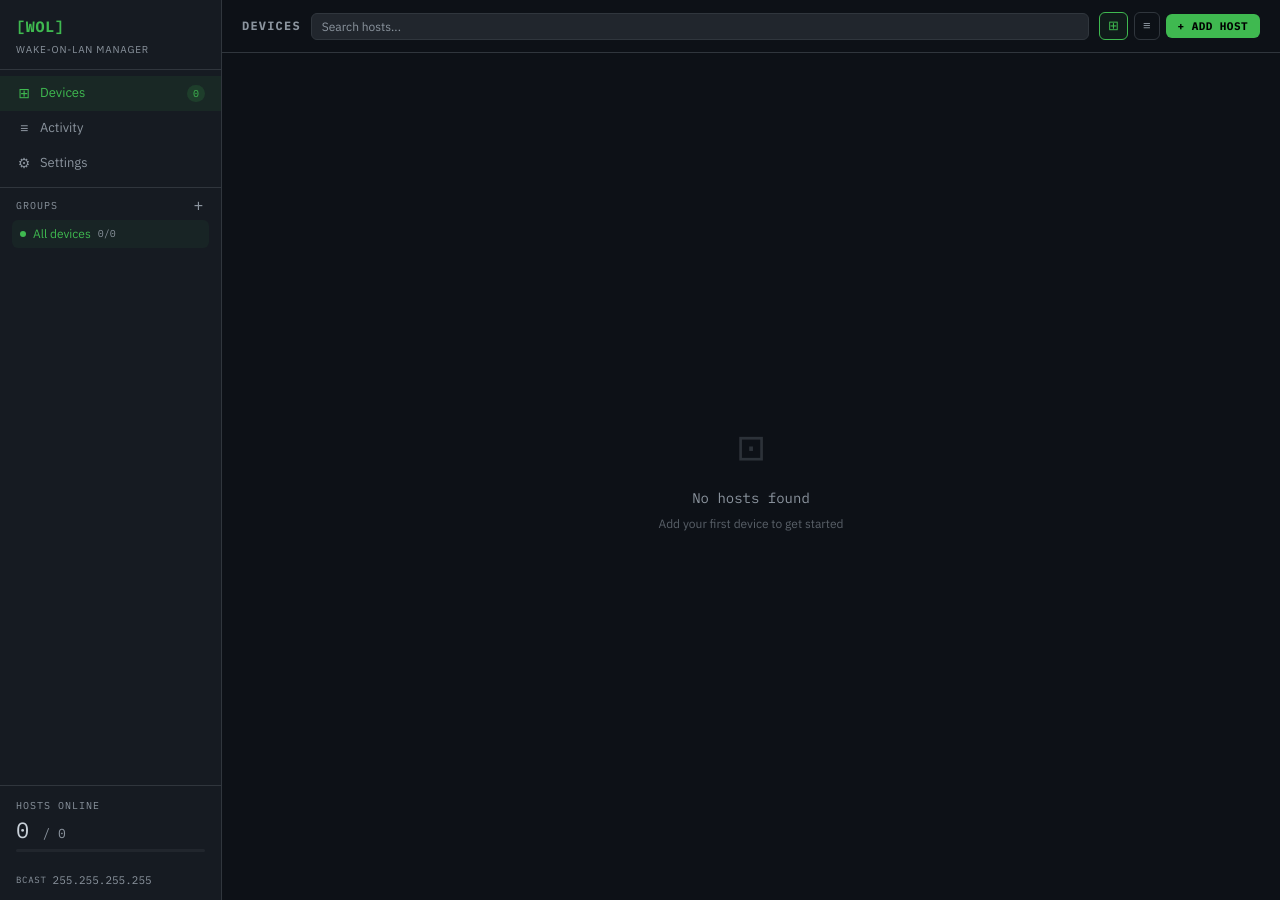
Test: App › addDevice › shows error toast when add fails
Step 1. Click the button "+ ADD HOST" → (1213, 26), box [1166,14,1260,38]
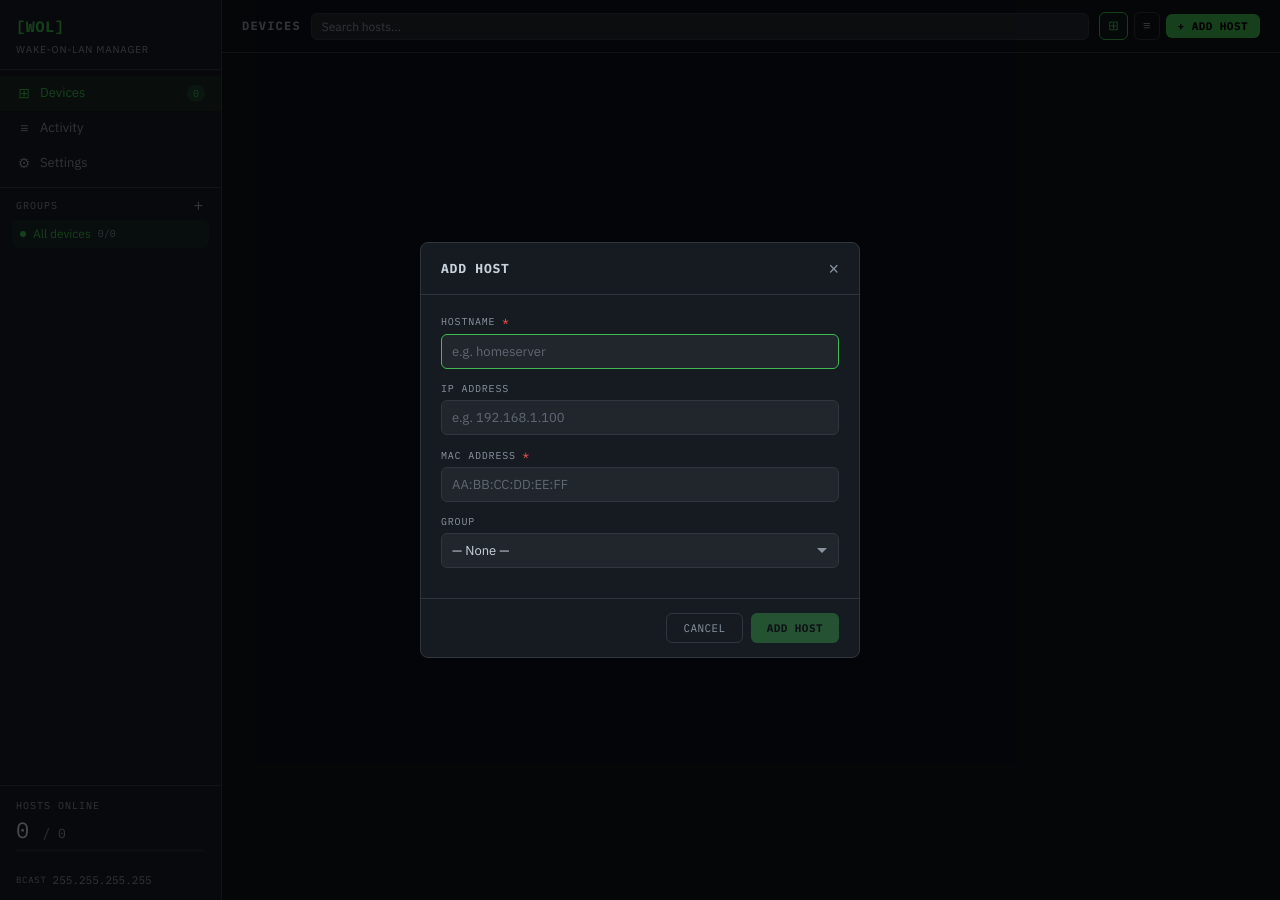
Step 2. Type "My Server" into the field with placeholder "e.g. homeserver" → (640, 351), box [441,334,839,369]
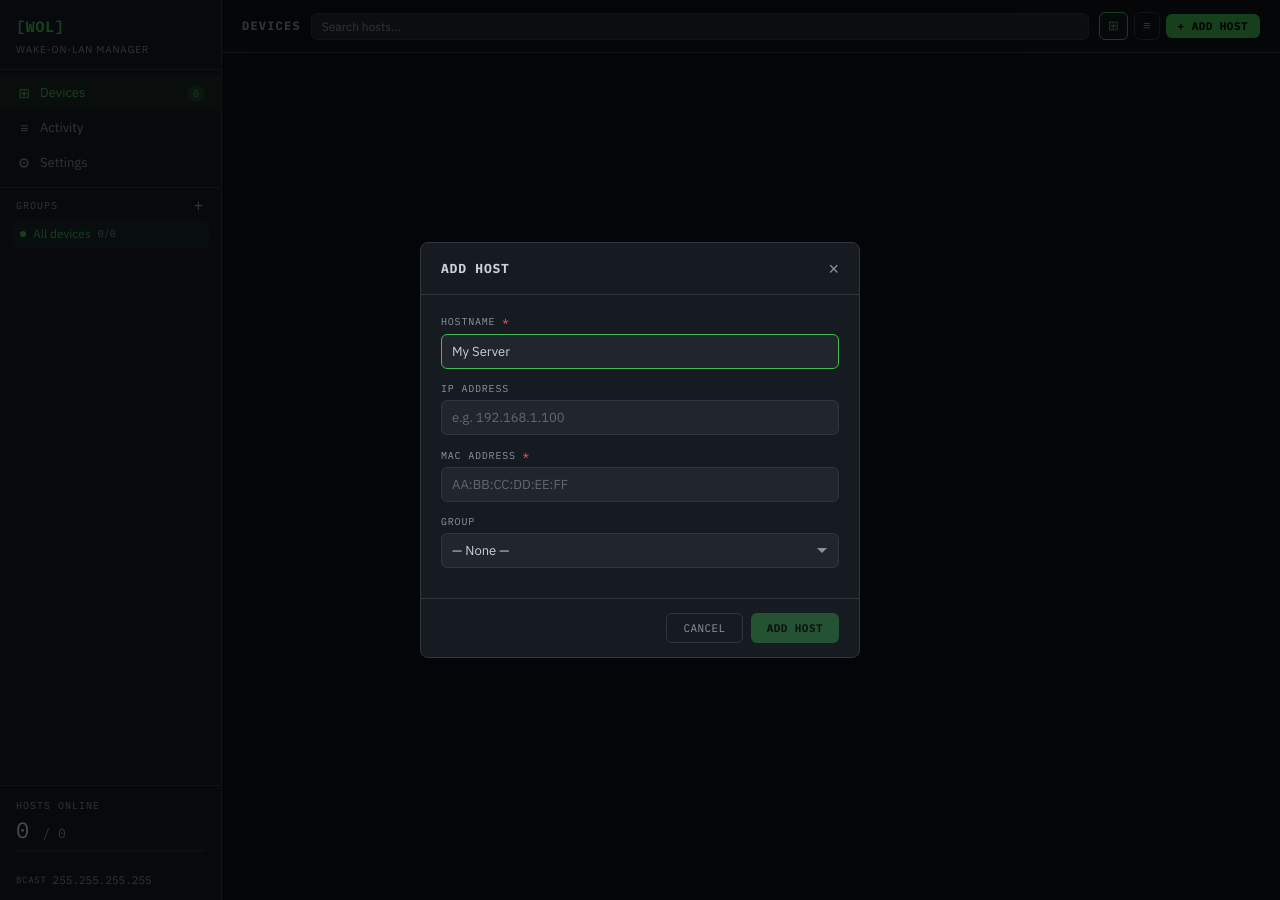
Step 3. Type "11:22:33:44:55:66" into the field with placeholder "AA:BB:CC:DD:EE:FF" → (640, 485), box [441,467,839,502]
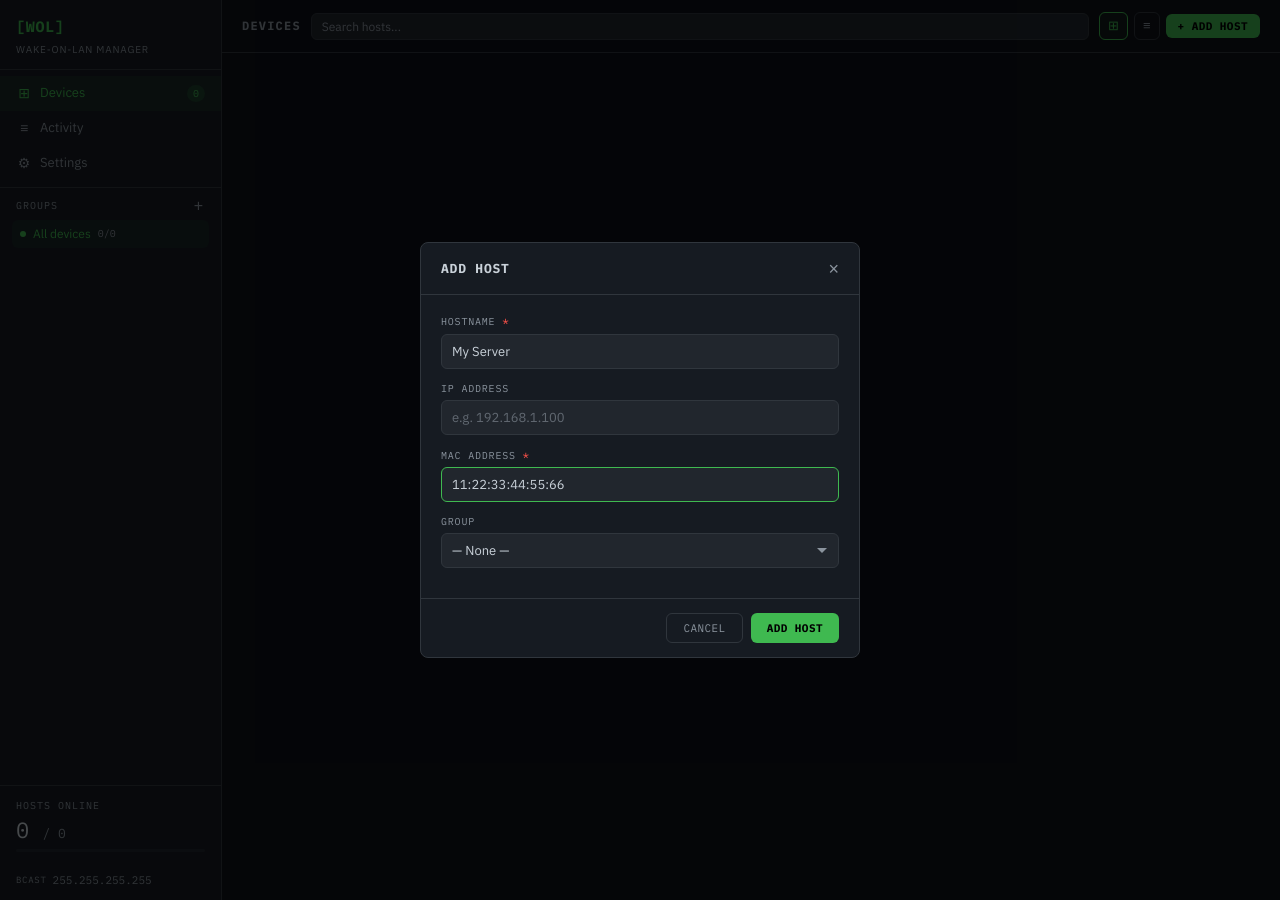
Step 4. Click the button "ADD HOST" → (795, 628), box [751,613,839,643]
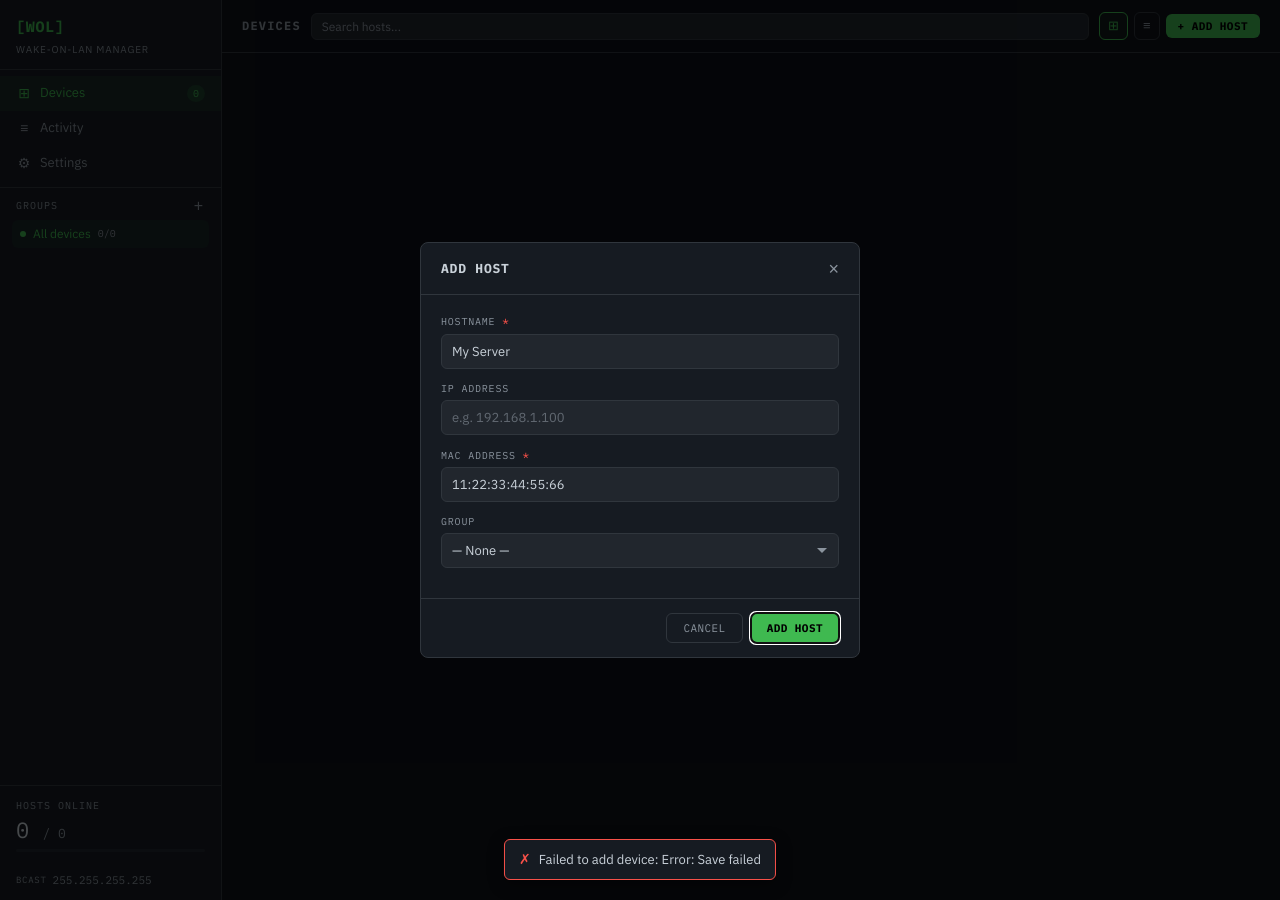
Result: the text "✗ Failed to add device: Error: Save failed" is shown at [504,839,776,880]
